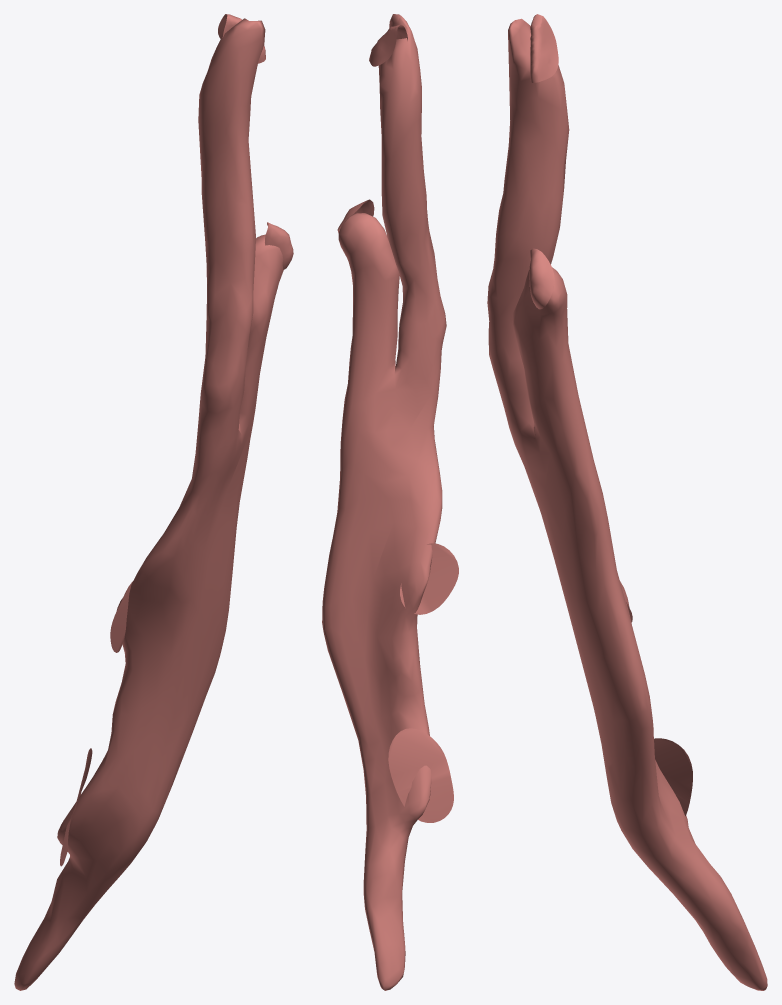
Rendered from fma46288_mm1296.glb.
3 views of the same model, side by side, from view 1: azimuth 30°, elevation 25°; view 2: azimuth 150°, elevation 25°; view 3: azimuth 270°, elevation 25° (orthographic). The views are drawn at different scales.
Parts seen in each view (by area): view 1: FMA46288_MM1296; view 2: FMA46288_MM1296; view 3: FMA46288_MM1296.
Part boxes in pixels (<box>): FMA46288_MM1296: <box>14,14,293,990</box>; FMA46288_MM1296: <box>322,14,458,990</box>; FMA46288_MM1296: <box>487,14,767,990</box>.
Size of the model in its own units: 0.0182 by 0.098 by 0.0243.
